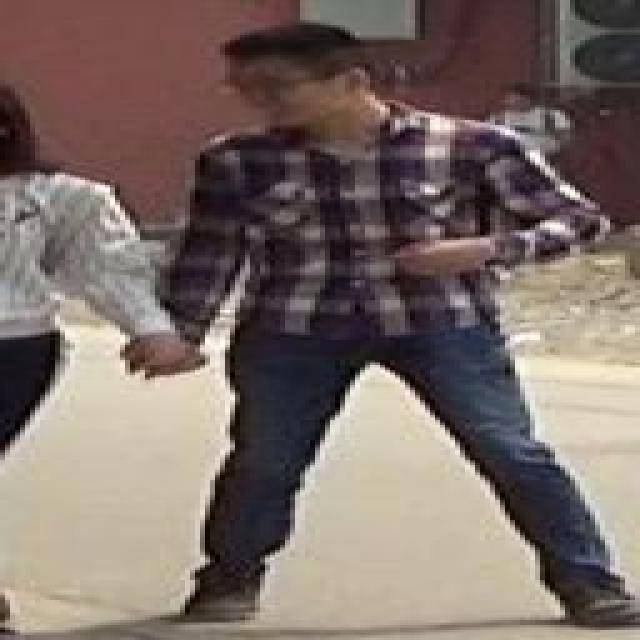adult: (170, 26, 640, 619), (0, 87, 128, 511), (496, 90, 591, 185)
